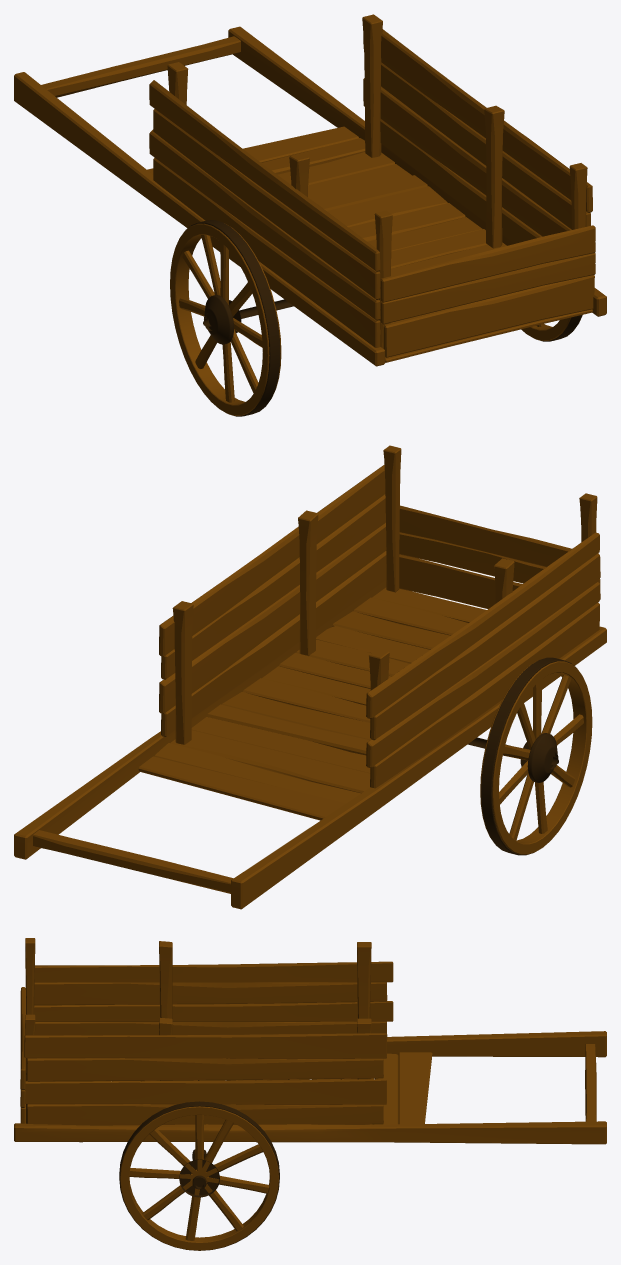
File: Carriage.fbx
3 renders of one model, top to bottom at view 1: azimuth 30°, elevation 25°; view 2: azimuth 150°, elevation 25°; view 3: azimuth 270°, elevation 25°, orthographic. The views are drawn at different scales.
Visible parts, largest first — view 1: carriage_obj; view 2: carriage_obj; view 3: carriage_obj.
Part boxes in pixels (box(x1,y1,x2,y2)): carriage_obj: box(14, 14, 606, 416); carriage_obj: box(14, 445, 606, 909); carriage_obj: box(14, 938, 606, 1250).
Bounding box in the file's own units: 1440 × 1011 × 2603.
